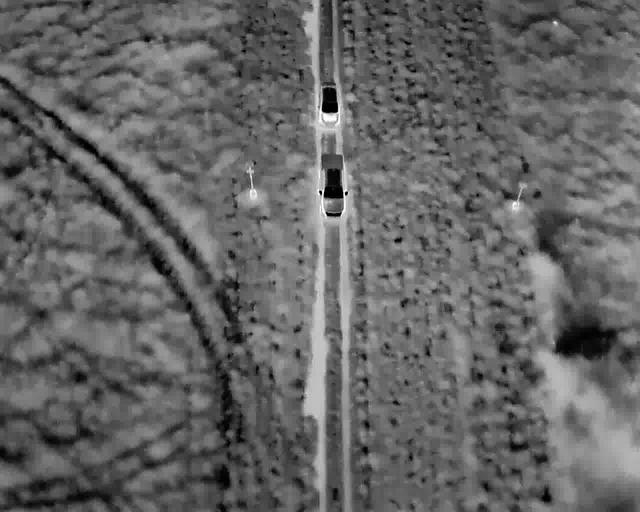car: (316, 152, 349, 219), (315, 80, 344, 128)
